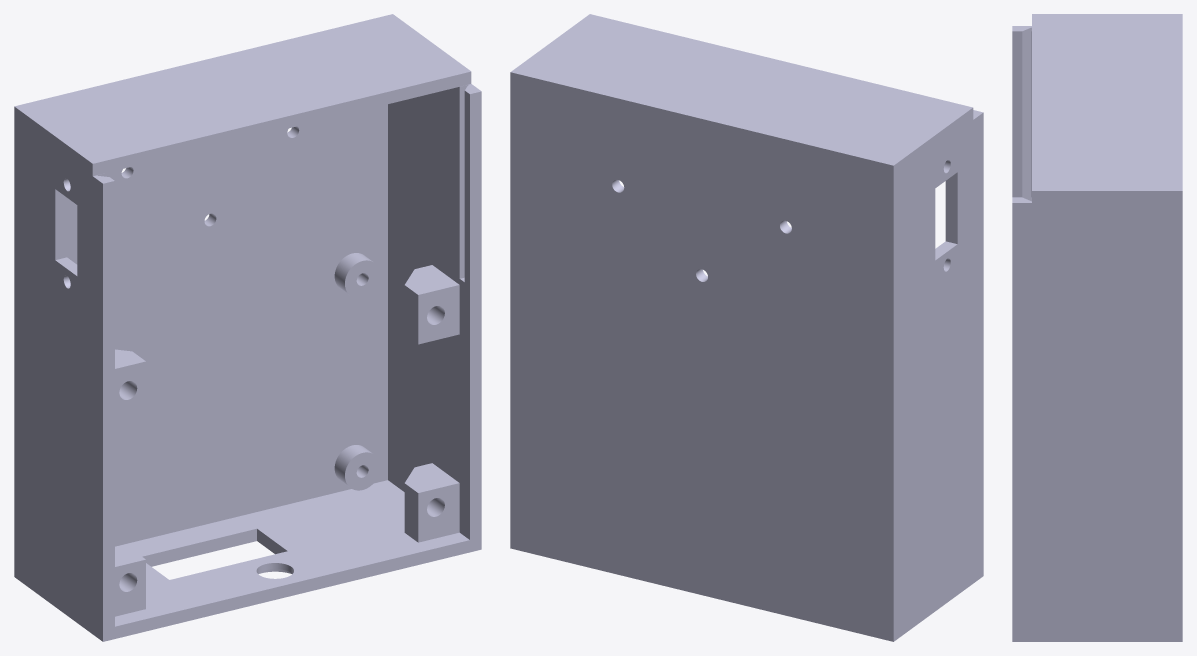
File: tank_trainer_body.obj
The picture shows the model from 3 angles, left to right: view 1: azimuth 30°, elevation 25°; view 2: azimuth 150°, elevation 25°; view 3: azimuth 270°, elevation 25°; orthographic projection. The views are drawn at different scales.
Parts seen in each view (by area): view 1: Cut007; view 2: Cut007; view 3: Cut007.
Part boxes in pixels (x1,y1,x2,y2): Cut007: (14, 14, 481, 641); Cut007: (510, 14, 983, 641); Cut007: (1012, 14, 1182, 641).
Bounding box in the file's own units: 64 × 76 × 26.
